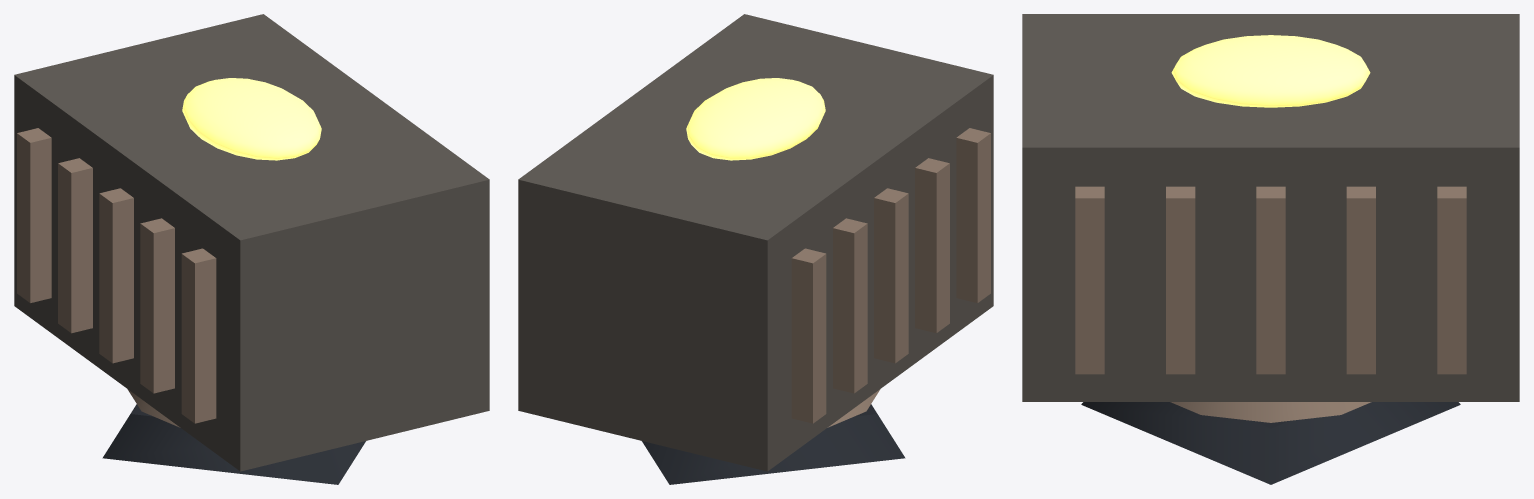
Rendered from compact_high_gravity--power_unit.glb.
3 renders of one model, left to right at view 1: azimuth 30°, elevation 25°; view 2: azimuth 150°, elevation 25°; view 3: azimuth 270°, elevation 25°, orthographic. The views are drawn at different scales.
Parts seen in each view (by area): view 1: armored_module_housing_3, power_status_14, mount_adapter_1, cooling_fin_8, cooling_fin_7, cooling_fin_5, cooling_fin_4, cooling_fin_6; view 2: armored_module_housing_3, power_status_14, mount_adapter_1, cooling_fin_4, cooling_fin_5, cooling_fin_7, cooling_fin_6, cooling_fin_8; view 3: armored_module_housing_3, mount_adapter_1, power_status_14, cooling_fin_9, cooling_fin_11, cooling_fin_13, cooling_fin_10, cooling_fin_12, rotation_bearing_2.
Part boxes in pixels (left/top/right/bottom): armored_module_housing_3: left=14, top=14, right=489, bottom=471; power_status_14: left=182, top=78, right=321, bottom=160; mount_adapter_1: left=102, top=404, right=365, bottom=484; cooling_fin_8: left=181, top=248, right=216, bottom=423; cooling_fin_7: left=140, top=218, right=174, bottom=393; cooling_fin_5: left=58, top=158, right=92, bottom=333; cooling_fin_4: left=17, top=128, right=51, bottom=302; cooling_fin_6: left=99, top=188, right=133, bottom=363; armored_module_housing_3: left=518, top=14, right=993, bottom=471; power_status_14: left=686, top=78, right=825, bottom=160; mount_adapter_1: left=642, top=404, right=905, bottom=484; cooling_fin_4: left=791, top=248, right=826, bottom=423; cooling_fin_5: left=833, top=218, right=867, bottom=393; cooling_fin_7: left=915, top=158, right=949, bottom=333; cooling_fin_6: left=874, top=188, right=908, bottom=363; cooling_fin_8: left=956, top=128, right=990, bottom=302; armored_module_housing_3: left=1022, top=14, right=1519, bottom=401; mount_adapter_1: left=1081, top=402, right=1460, bottom=484; power_status_14: left=1171, top=35, right=1370, bottom=107; cooling_fin_9: left=1437, top=186, right=1466, bottom=374; cooling_fin_11: left=1256, top=186, right=1285, bottom=374; cooling_fin_13: left=1075, top=186, right=1104, bottom=374; cooling_fin_10: left=1346, top=186, right=1375, bottom=374; cooling_fin_12: left=1166, top=186, right=1195, bottom=374; rotation_bearing_2: left=1170, top=402, right=1371, bottom=422.
Size of the model in its own units: 10.08 by 10.44 by 13.2.
